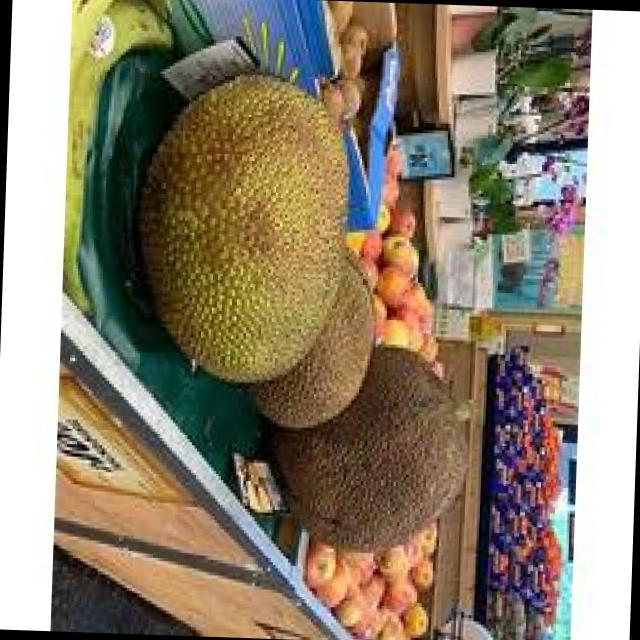Fruit: (105, 49, 392, 418)
